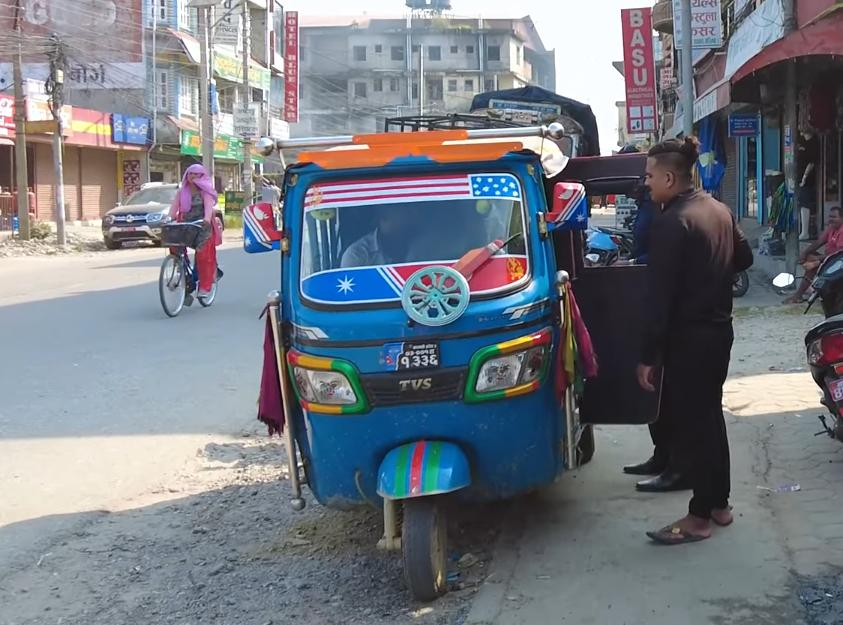auto_rickshaw: (239, 126, 610, 603)
scooter: (775, 243, 843, 458)
